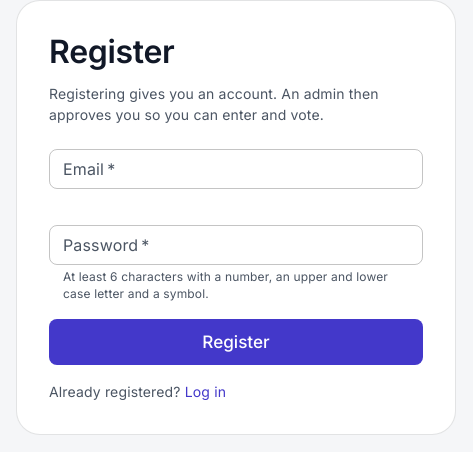
Scenario: RegisterPage › shows API validation errors beside the field
Type "new@example.com" into the field labelled "Email *". click: (236, 169)
box: [49,149,423,189]
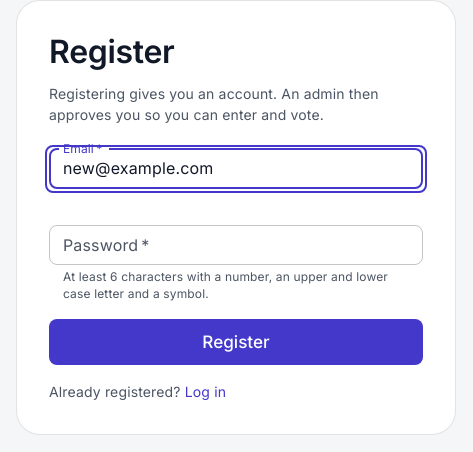
Type "weak" into the password field labelled "Password *". click: (236, 245)
box: [49,225,423,265]
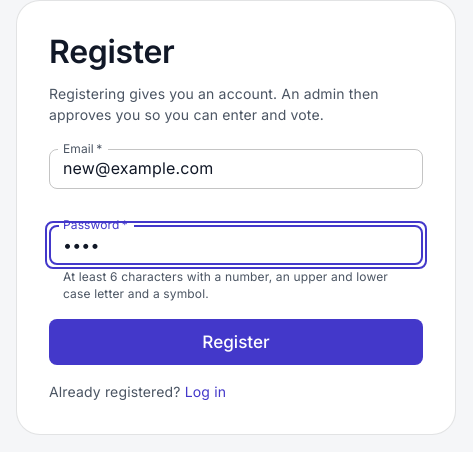
Click the button "Register". click: click(236, 342)
box: [49,319,423,365]
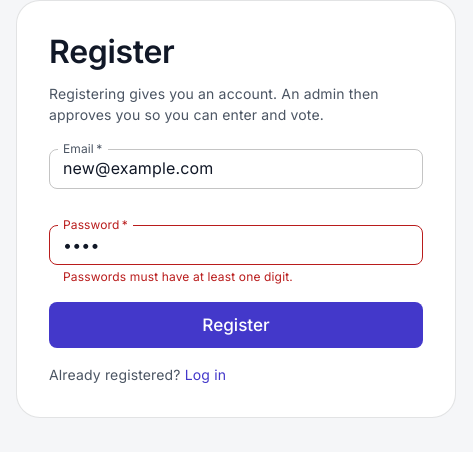
Result: the text "Passwords must have at least one digit." is shown at [63,269,293,284]
